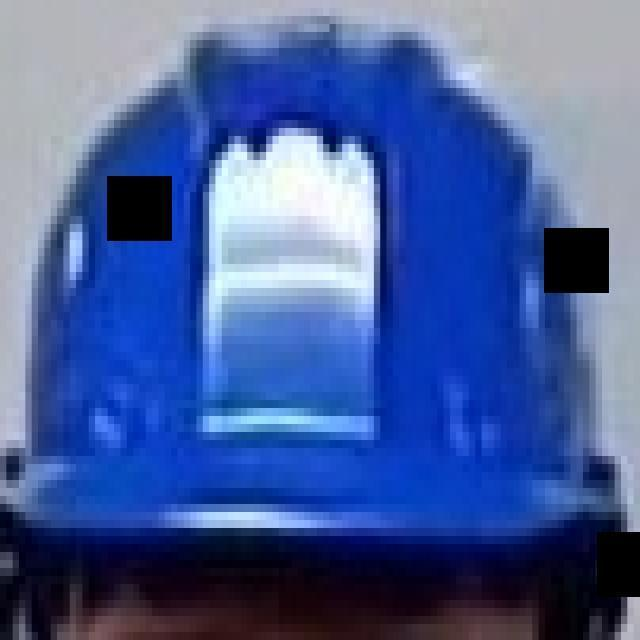blue helmet: (25, 37, 596, 538)
